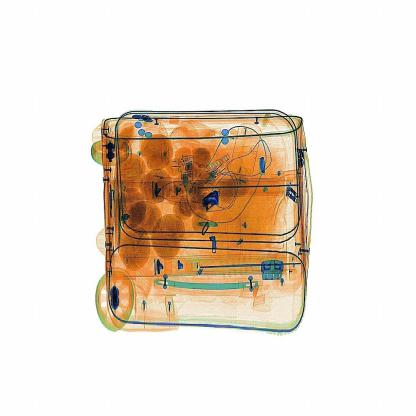knife: (200, 184, 220, 210)
